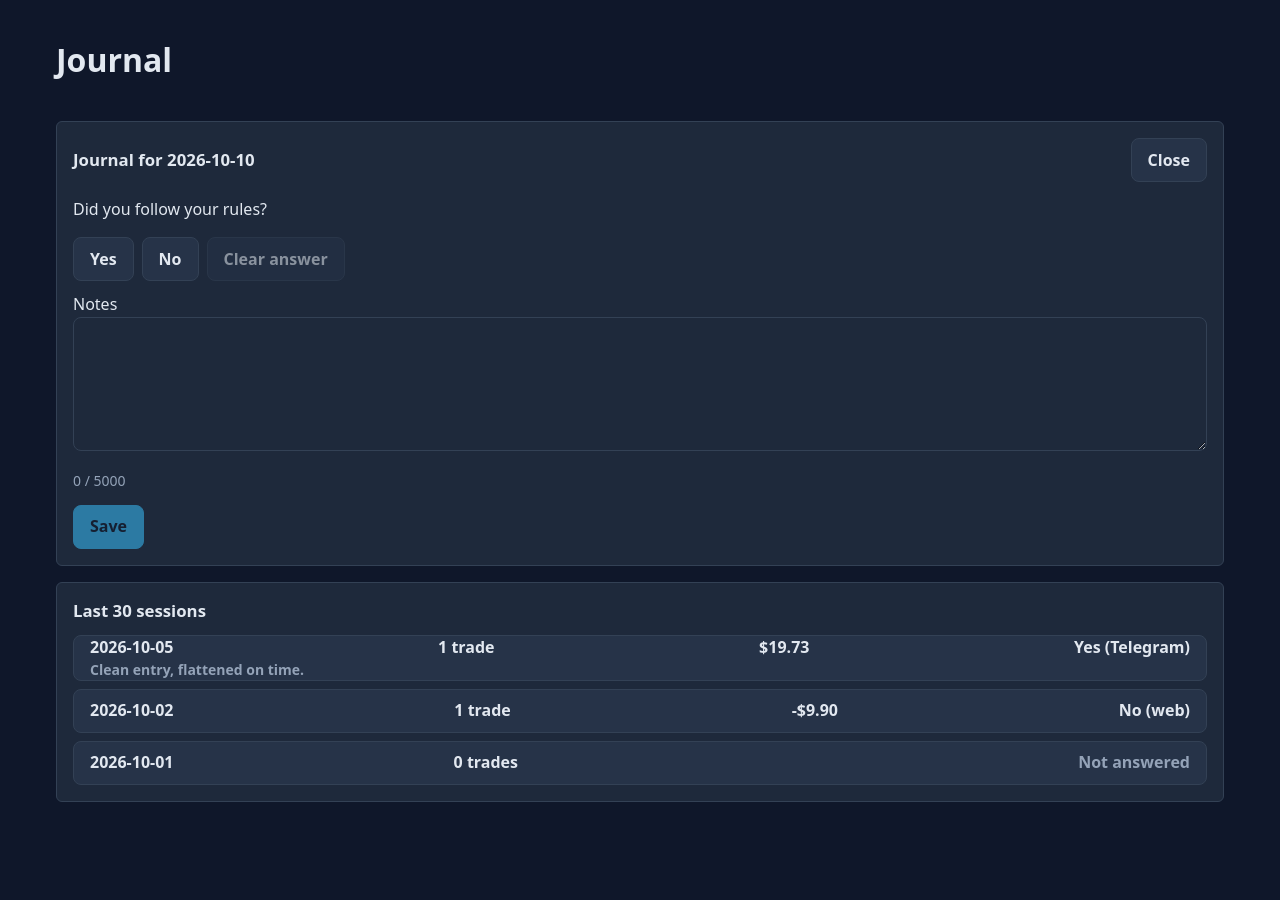
Journal page › shows the server's 422 message and keeps the edit
The image size is (1280, 900).
Click the button "No".
click(170, 260)  # box [142,238,198,282]
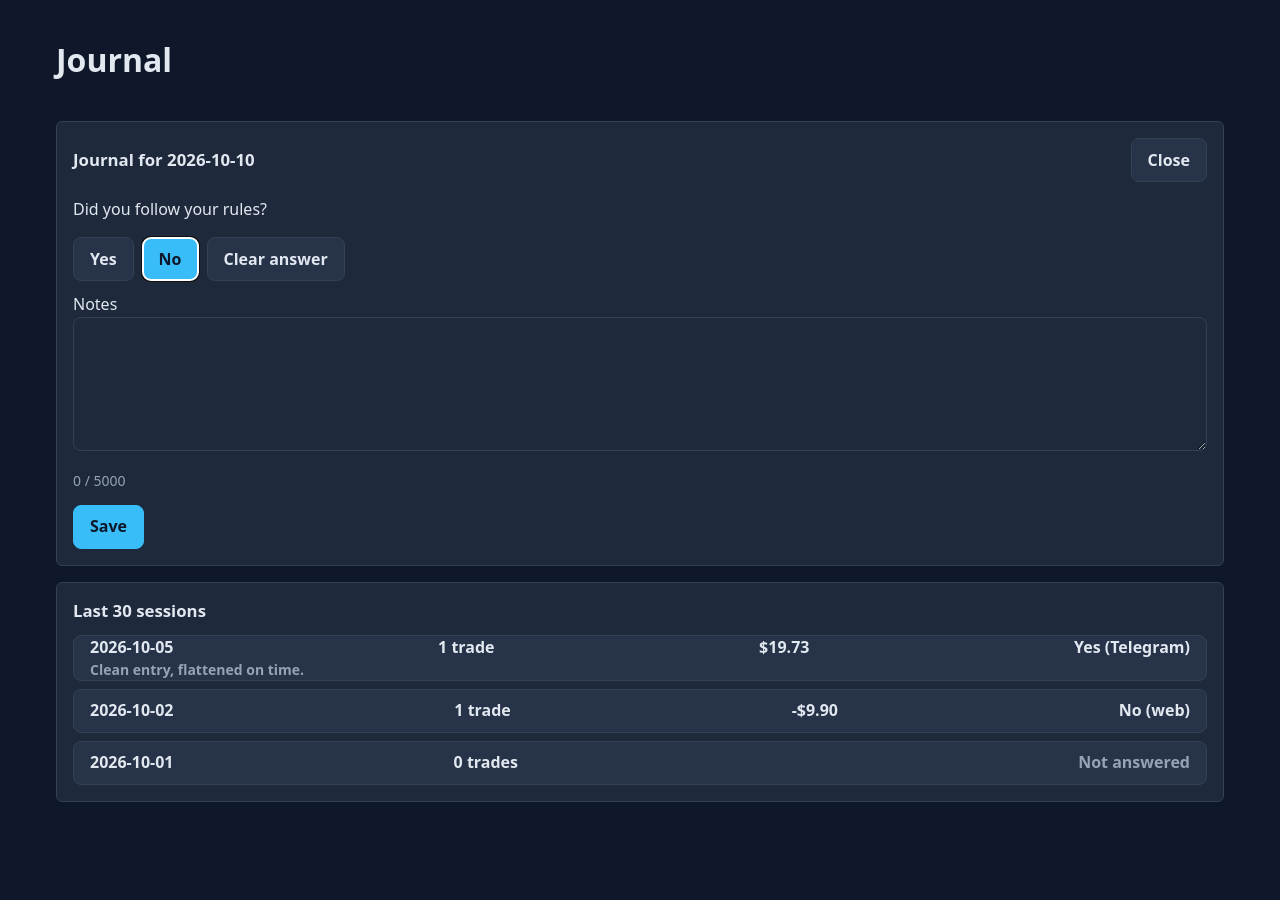
Click the button "Save".
click(108, 527)  # box [73,505,144,549]
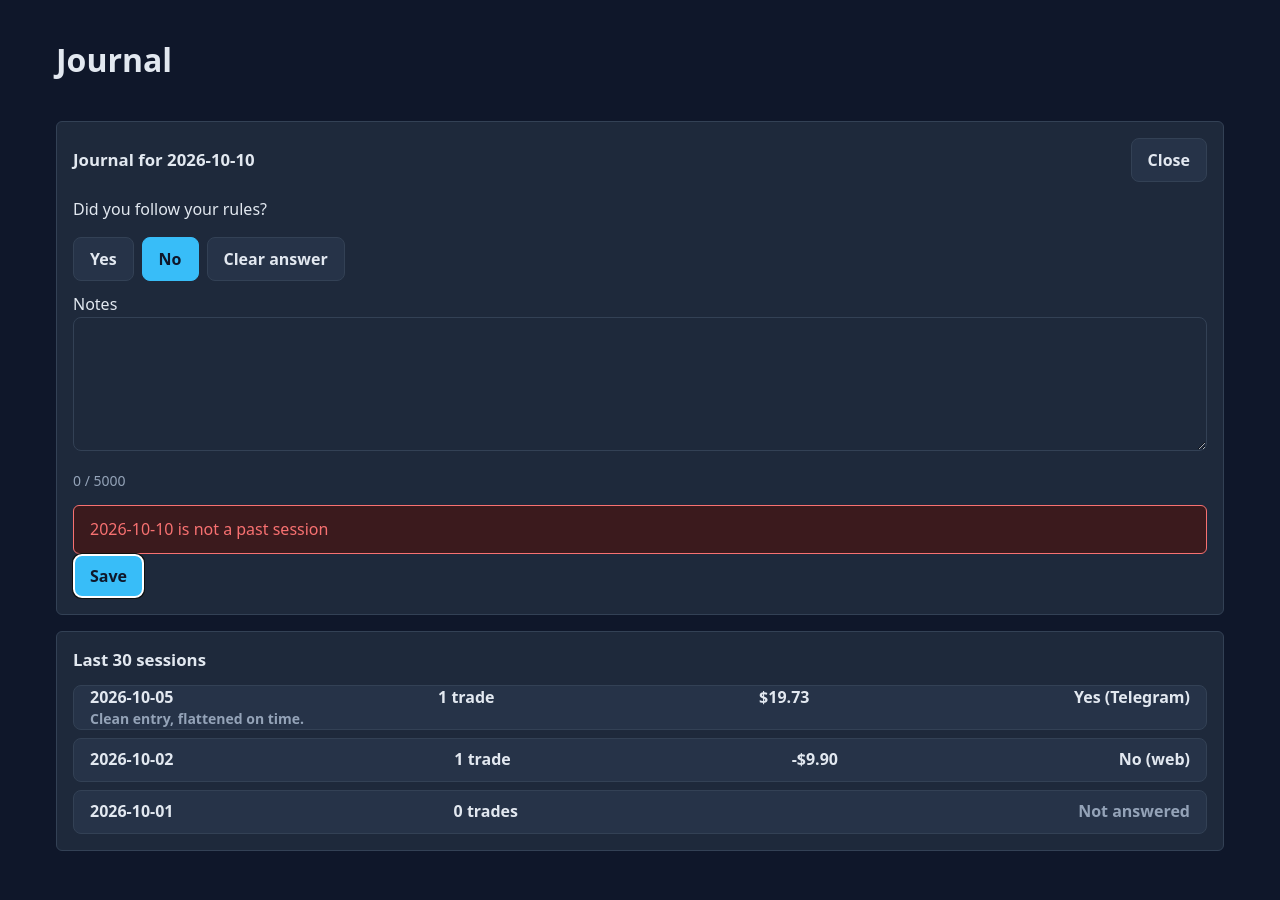
expect the message reads "2026-10-10 is not a past session": met, box [90,518,328,540]
